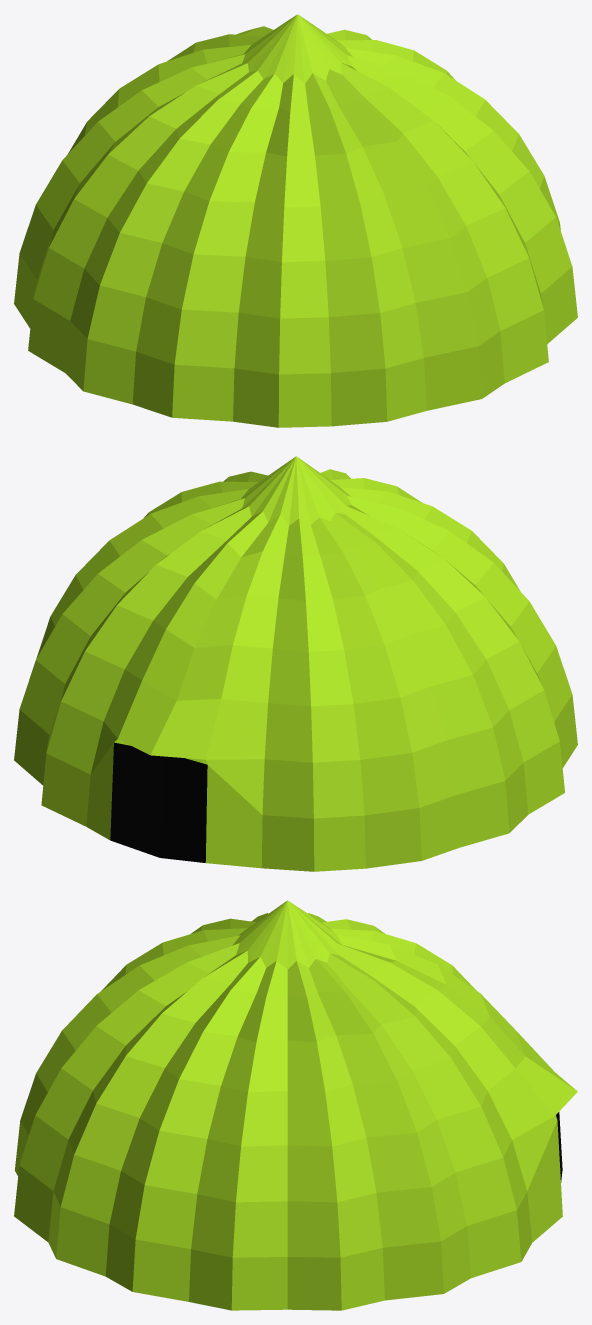
Rendered from TownCactus.fbx.
3 renders of one model, top to bottom at view 1: azimuth 30°, elevation 25°; view 2: azimuth 150°, elevation 25°; view 3: azimuth 270°, elevation 25°, orthographic.
Visible parts, largest first — view 1: Sphere; view 2: Sphere; view 3: Sphere.
Boxes of the visible parts, x1,y1,x2,y2 form: Sphere: (14,14,577,427); Sphere: (14,456,577,871); Sphere: (14,900,577,1310).
Size of the model in its own units: 193 by 116 by 197.
